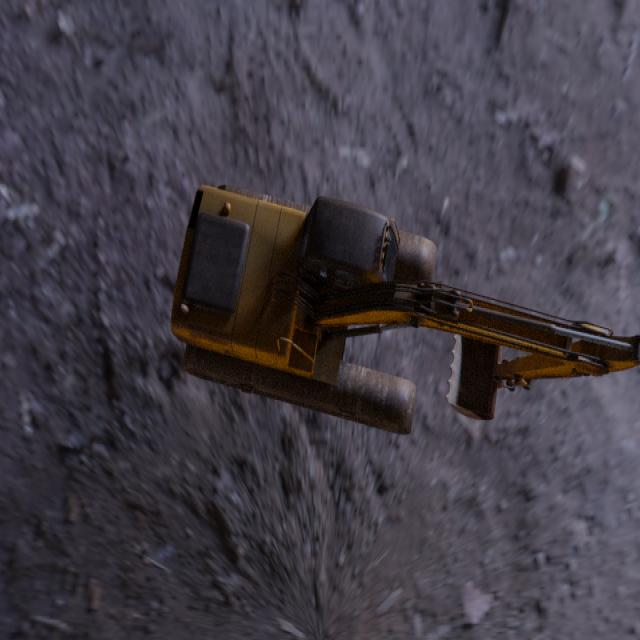excavator: (169, 184, 640, 435)
